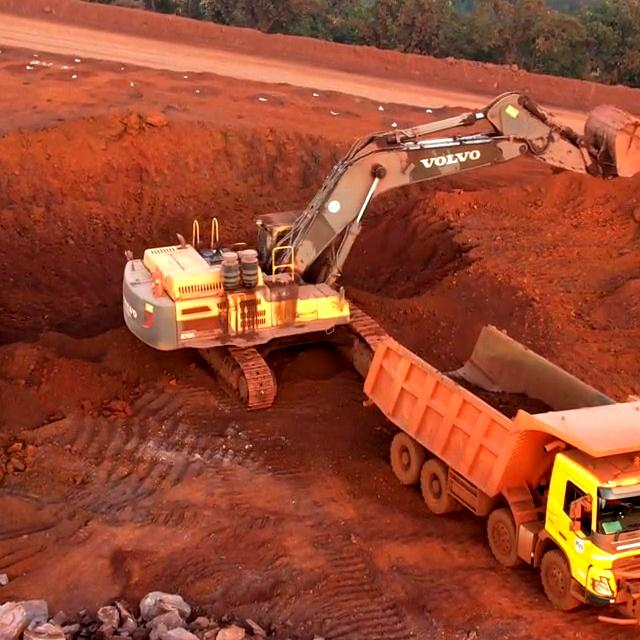Dumper truck: (525, 420, 640, 603)
Excavator: (143, 235, 382, 342), (445, 92, 640, 176)
